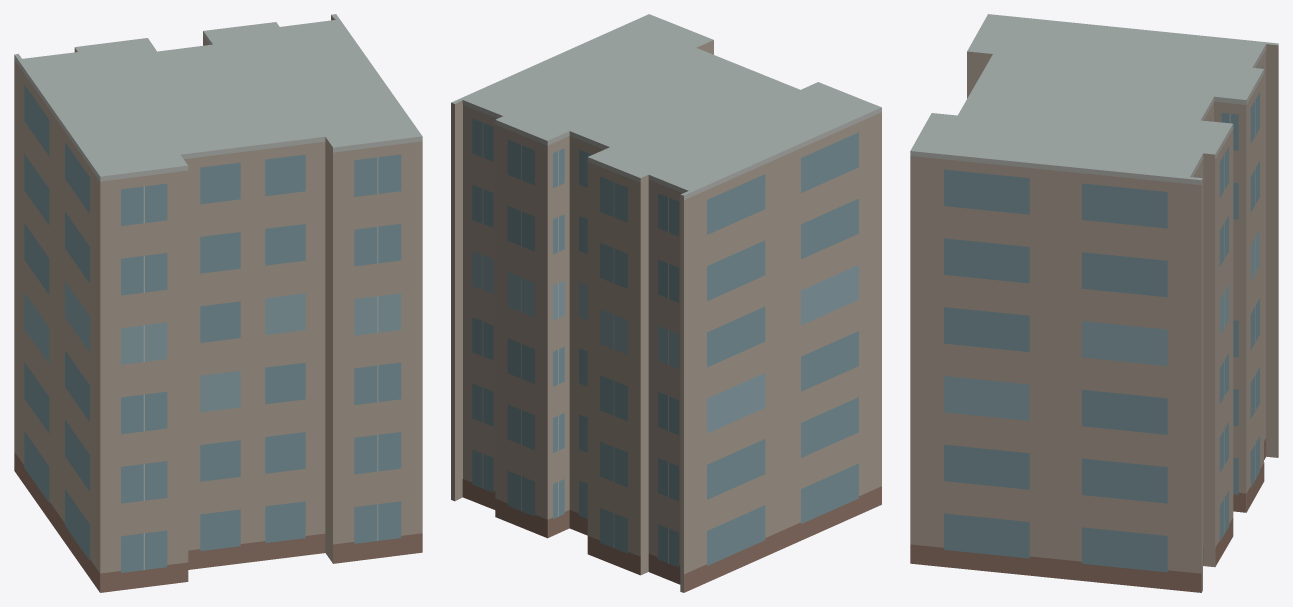
File: survey-upis-32522532.glb
3 views of the same model, side by side, from view 1: azimuth 30°, elevation 25°; view 2: azimuth 150°, elevation 25°; view 3: azimuth 270°, elevation 25° (orthographic). The views are drawn at different scales.
Visible parts, largest first — view 1: survey-upis-32522532.tmp; view 2: survey-upis-32522532.tmp; view 3: survey-upis-32522532.tmp.
Part boxes in pixels (<box>): survey-upis-32522532.tmp: <box>14,14,422,592</box>; survey-upis-32522532.tmp: <box>451,14,881,592</box>; survey-upis-32522532.tmp: <box>910,14,1278,592</box>.
Size of the model in its own units: 17.72 by 20.5 by 16.6.
